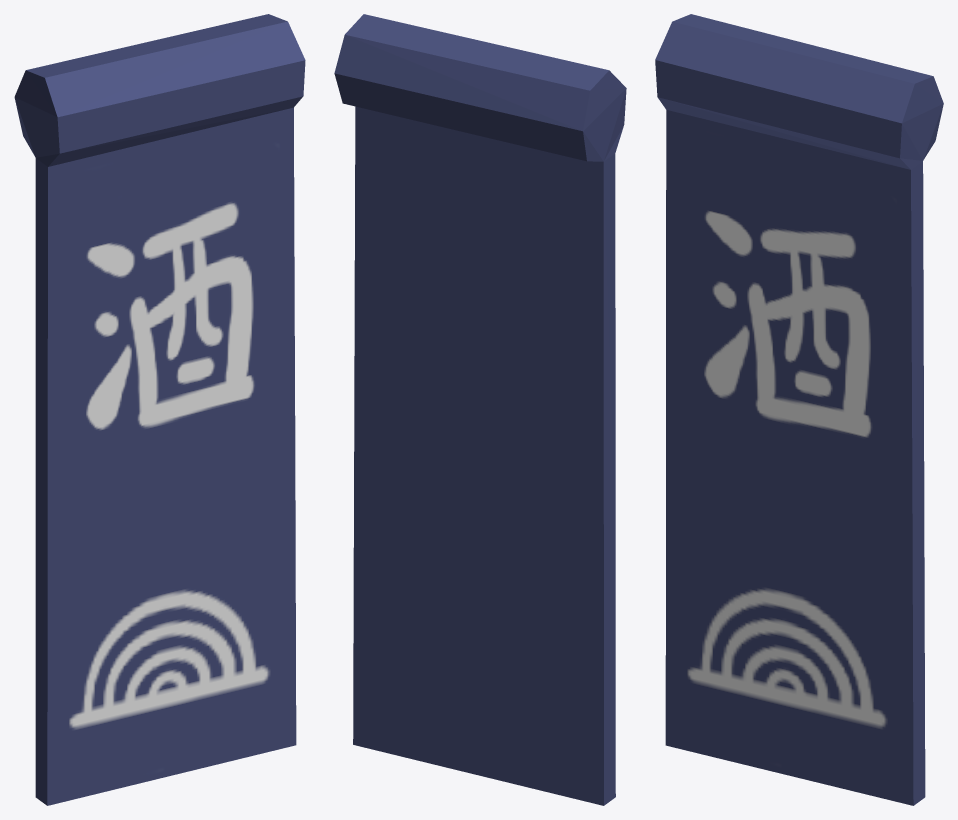
Rendered from MarketStall_Flag_Alcohol.fbx.
The picture shows the model from 3 angles, left to right: view 1: azimuth 30°, elevation 25°; view 2: azimuth 150°, elevation 25°; view 3: azimuth 330°, elevation 25°; orthographic projection.
Parts seen in each view (by area): view 1: MarketStall_Flag_Alcohol; view 2: MarketStall_Flag_Alcohol; view 3: MarketStall_Flag_Alcohol.
Part boxes in pixels (x1,y1,x2,y2): MarketStall_Flag_Alcohol: (14,14,305,805); MarketStall_Flag_Alcohol: (334,14,626,805); MarketStall_Flag_Alcohol: (655,14,943,805).
Size of the model in its own units: 0.3827 by 1.06 by 0.1149.
1 material, 1 textured.
